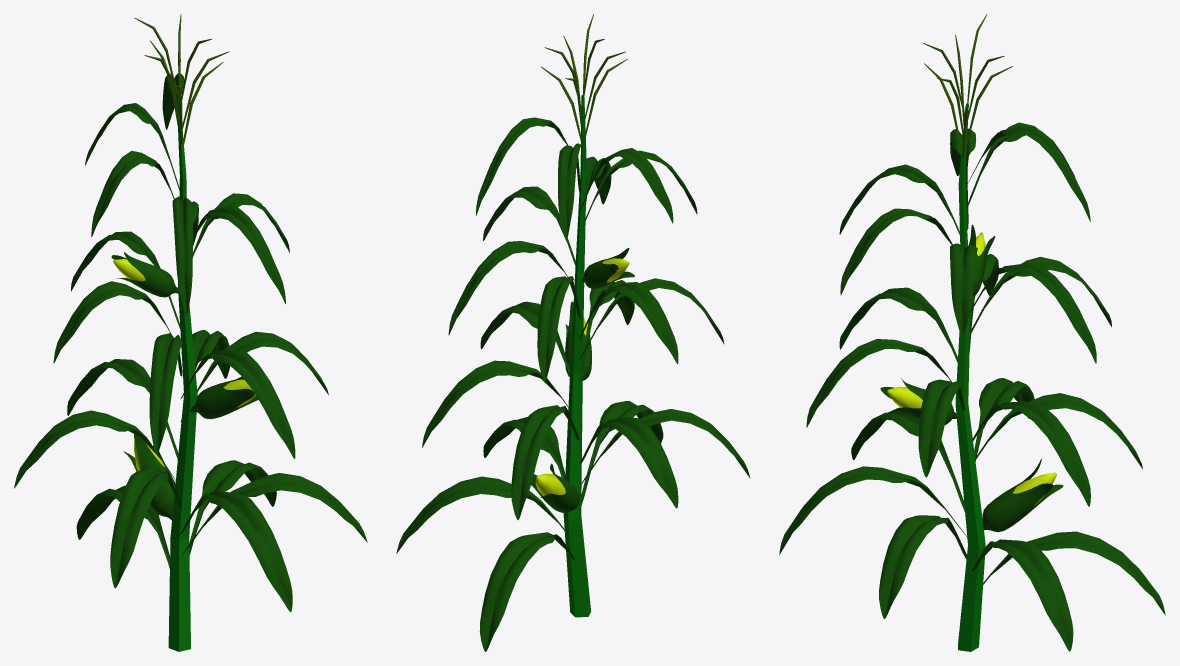
The model's file is Corn.fbx.
3 views of the same model, side by side, from view 1: azimuth 30°, elevation 25°; view 2: azimuth 150°, elevation 25°; view 3: azimuth 270°, elevation 25° (orthographic). The views are drawn at different scales.
Visible parts, largest first — view 1: Cylinder.323; view 2: Cylinder.323; view 3: Cylinder.323.
Boxes of the visible parts, x1=… form: Cylinder.323: x1=14, y1=14, x2=367, y2=651; Cylinder.323: x1=396, y1=14, x2=750, y2=651; Cylinder.323: x1=779, y1=14, x2=1165, y2=651.
Size of the model in its own units: 502 by 1081 by 614.
